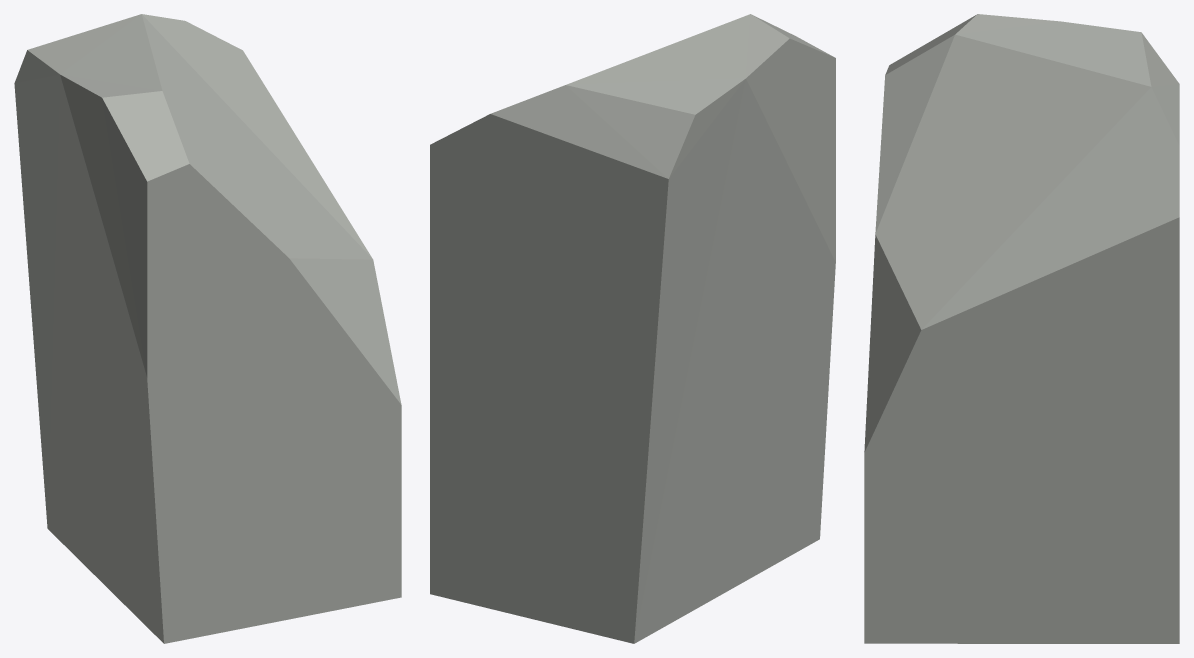
The model's file is Rock_Square_m_07.fbx.
3 views of the same model, side by side, from view 1: azimuth 30°, elevation 25°; view 2: azimuth 150°, elevation 25°; view 3: azimuth 270°, elevation 25° (orthographic). The views are drawn at different scales.
Visible parts, largest first — view 1: Rock_Square_m_07; view 2: Rock_Square_m_07; view 3: Rock_Square_m_07.
Boxes of the visible parts, box(x1,y1,x2,y2) form: Rock_Square_m_07: box(14, 14, 401, 643); Rock_Square_m_07: box(430, 14, 835, 643); Rock_Square_m_07: box(864, 14, 1179, 643).
Bounding box in the file's own units: 39.08 × 80.01 × 44.33.
